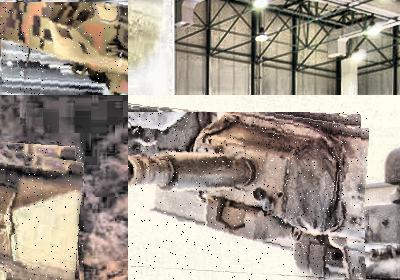tanks: (129, 113, 369, 280), (1, 4, 129, 96), (1, 153, 84, 280), (288, 237, 400, 280), (271, 278, 276, 280), (280, 279, 285, 280), (291, 279, 294, 280)
